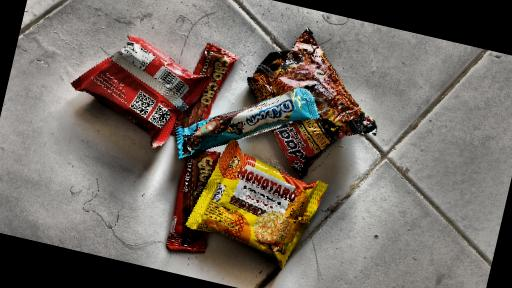chocho: (161, 145, 231, 258), (166, 37, 235, 148)
dilan: (172, 61, 319, 184)
mie sedap: (219, 15, 381, 191)
momotaro: (62, 21, 215, 157), (182, 135, 326, 271)
